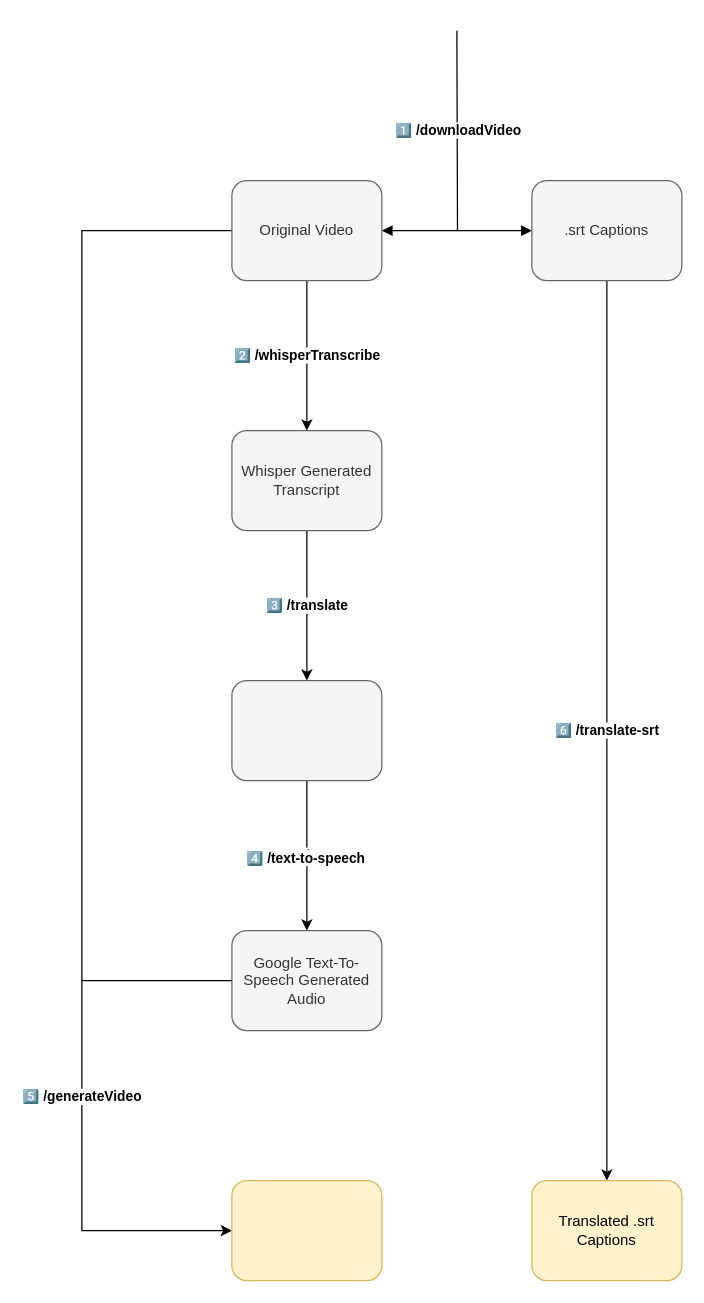
Some shapes in this 704 by 1303 pixel diagram are drawn without their labels. Each missing label, with the box of its shape:
Translated Video: (231, 1179, 382, 1281)
Translated Whisper Generated Transcript: (231, 679, 382, 781)
